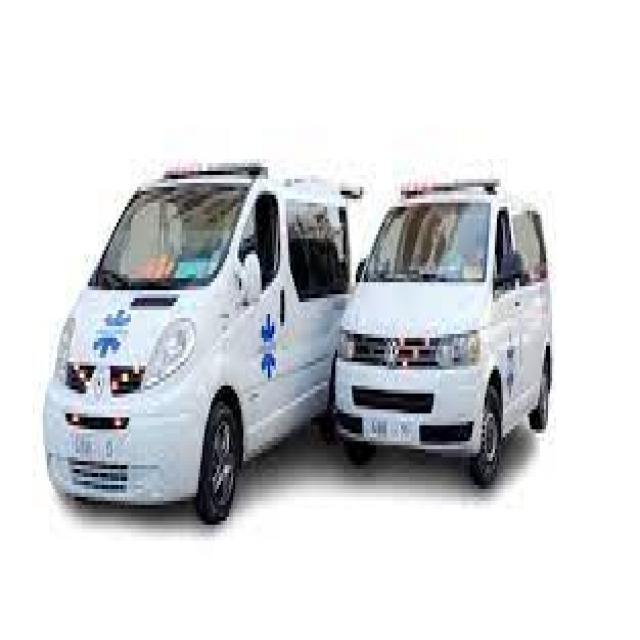ambulance: (43, 155, 348, 530), (335, 184, 552, 491)
